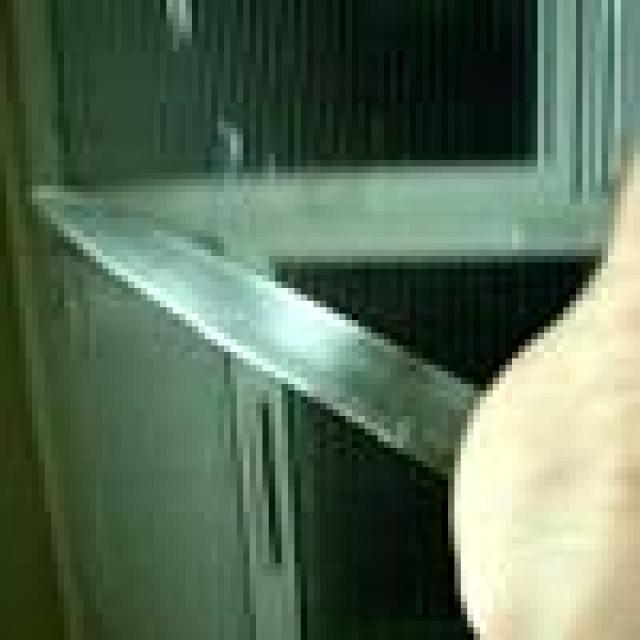knife: (48, 213, 460, 463)
